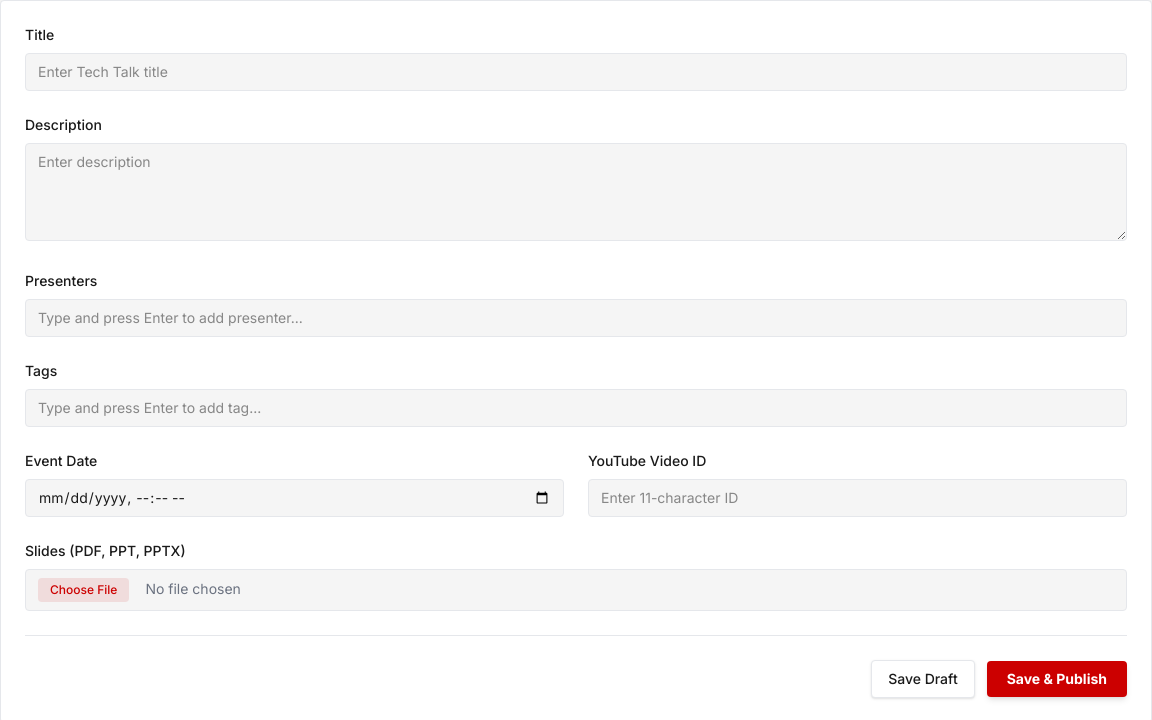
Test: TechTalkForm field-level validation display › does not open the publish confirmation modal when validation fails
Click the button "Save & Publish".
click(1057, 679)  # box [987,661,1127,697]
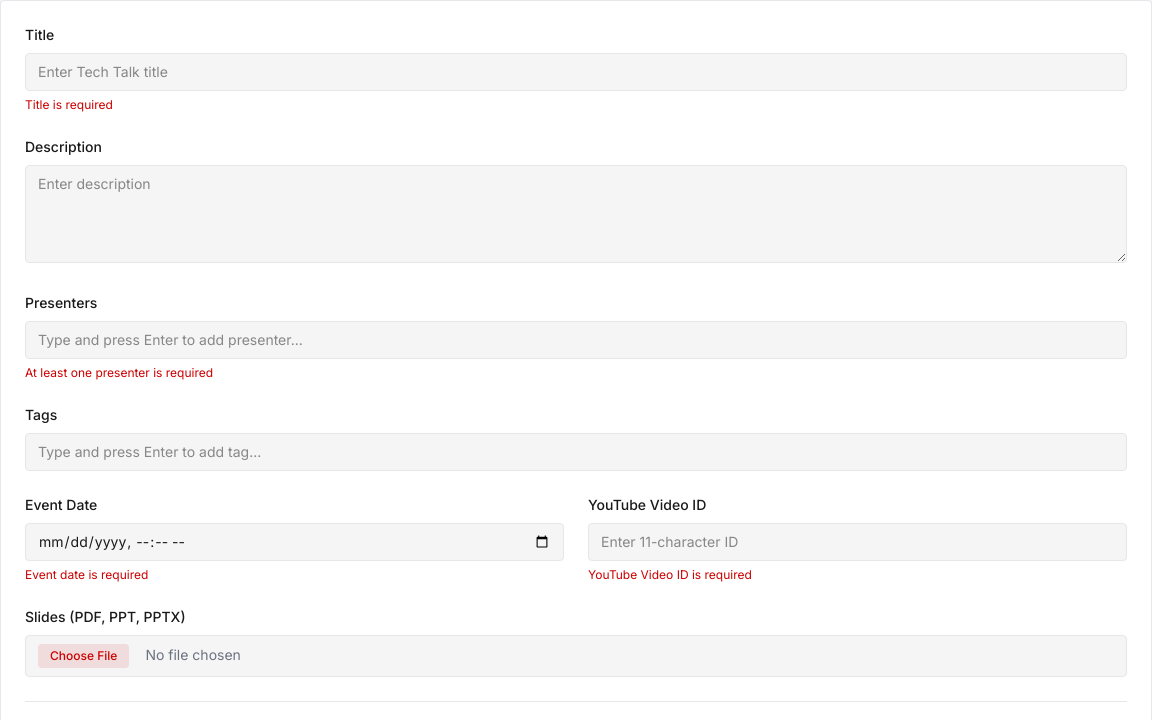
Expected: the text "Title is required" is shown, [25,97,113,112]
